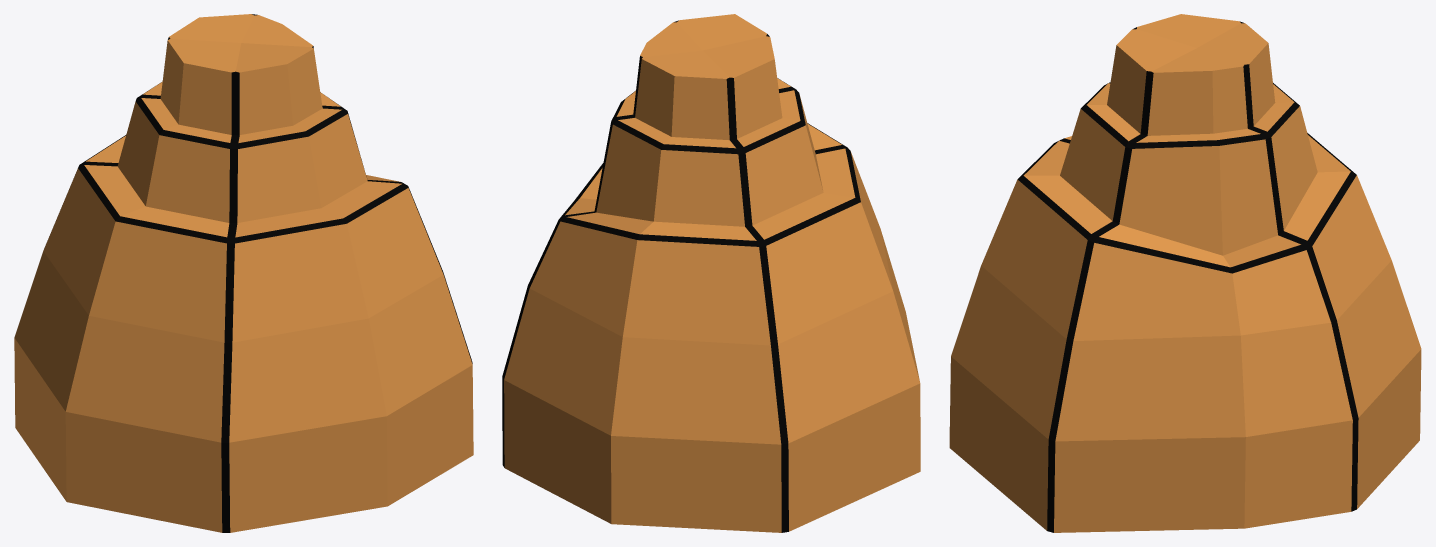
Rendered from PaperRock02.fbx.
The picture shows the model from 3 angles, left to right: view 1: azimuth 30°, elevation 25°; view 2: azimuth 150°, elevation 25°; view 3: azimuth 270°, elevation 25°; orthographic projection. The views are drawn at different scales.
Visible parts, largest first — view 1: Plane.012; view 2: Plane.012; view 3: Plane.012.
Boxes of the visible parts, bbox=[...] form: Plane.012: bbox=[14, 14, 473, 532]; Plane.012: bbox=[502, 14, 920, 532]; Plane.012: bbox=[949, 14, 1421, 532].
Size of the model in its own units: 6097 by 6537 by 6805.
